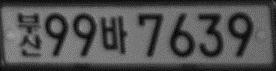3: (198, 13, 223, 58)
6: (169, 12, 195, 57)
7: (137, 13, 163, 56)
9: (227, 11, 254, 57), (72, 12, 97, 55), (44, 12, 68, 56)
바: (100, 15, 127, 54)
부산_V: (17, 11, 41, 56)
